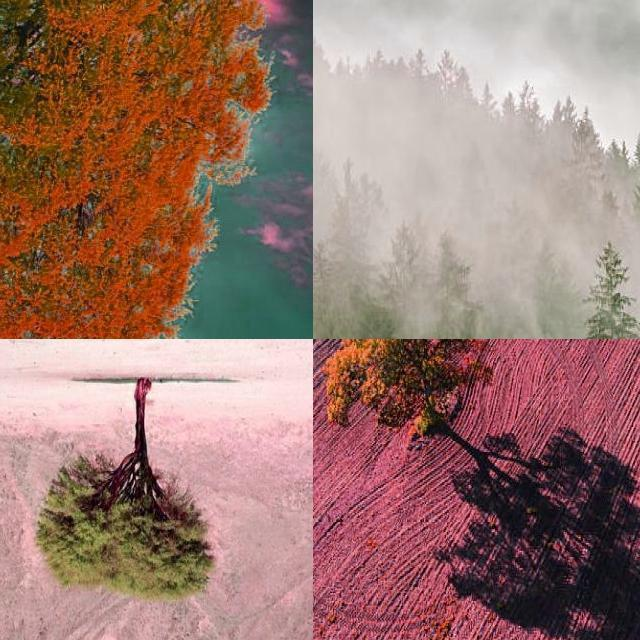tree: (0, 1, 288, 340), (36, 371, 212, 609), (318, 339, 482, 447), (584, 239, 640, 339), (631, 156, 640, 216)
